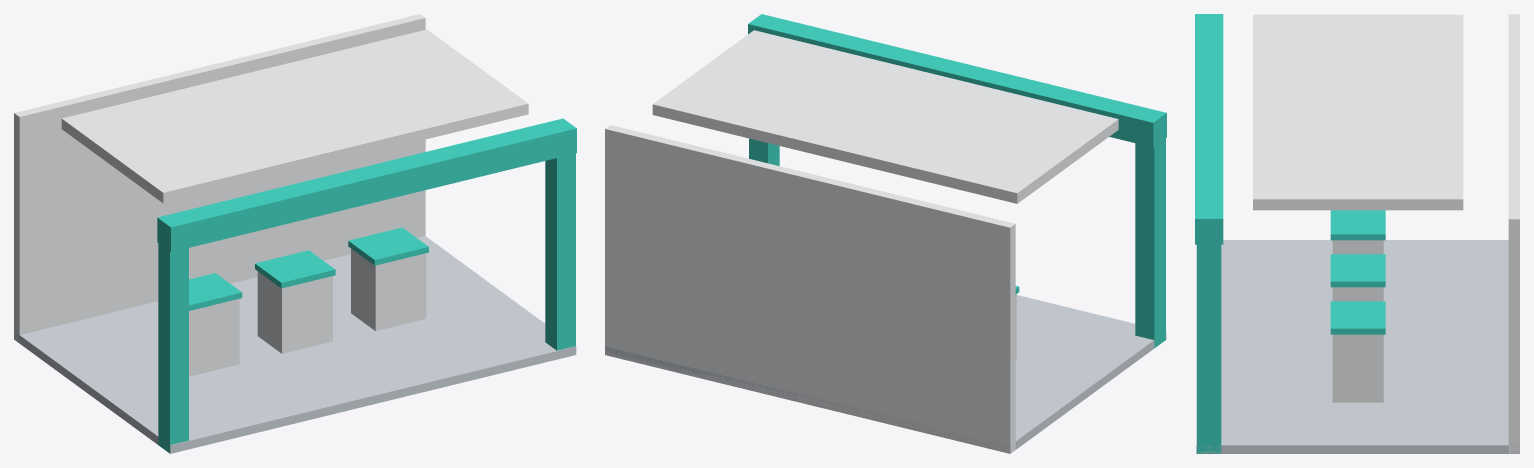
The picture shows the model from 3 angles, left to right: view 1: azimuth 30°, elevation 25°; view 2: azimuth 150°, elevation 25°; view 3: azimuth 270°, elevation 25°; orthographic projection. The views are drawn at different scales.
Visible parts, largest first — view 1: Exhibition Booth Concept; view 2: Exhibition Booth Concept; view 3: Exhibition Booth Concept.
Part boxes in pixels (x1,y1,x2,y2): Exhibition Booth Concept: [14, 14, 576, 453]; Exhibition Booth Concept: [605, 14, 1166, 453]; Exhibition Booth Concept: [1195, 14, 1519, 453].
Bounding box in the file's own units: 6 × 3.34 × 4.02.
